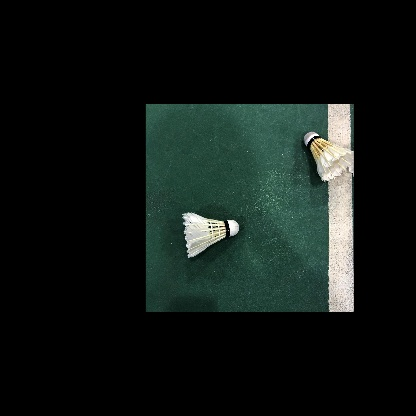ball_single: (182, 212, 239, 258), (303, 132, 354, 183)
